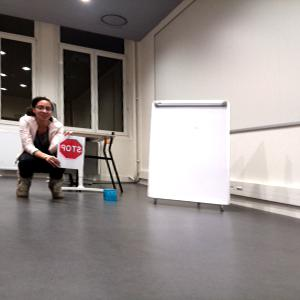stop: (59, 138, 83, 160)
